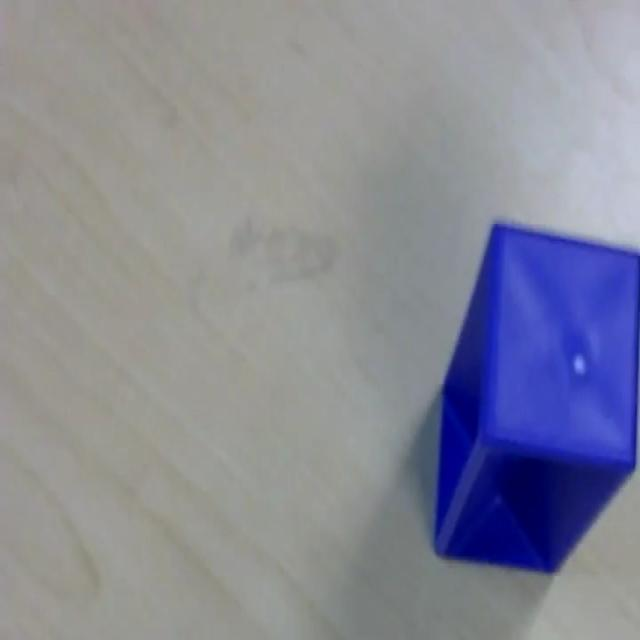blue_block: (432, 218, 639, 574)
